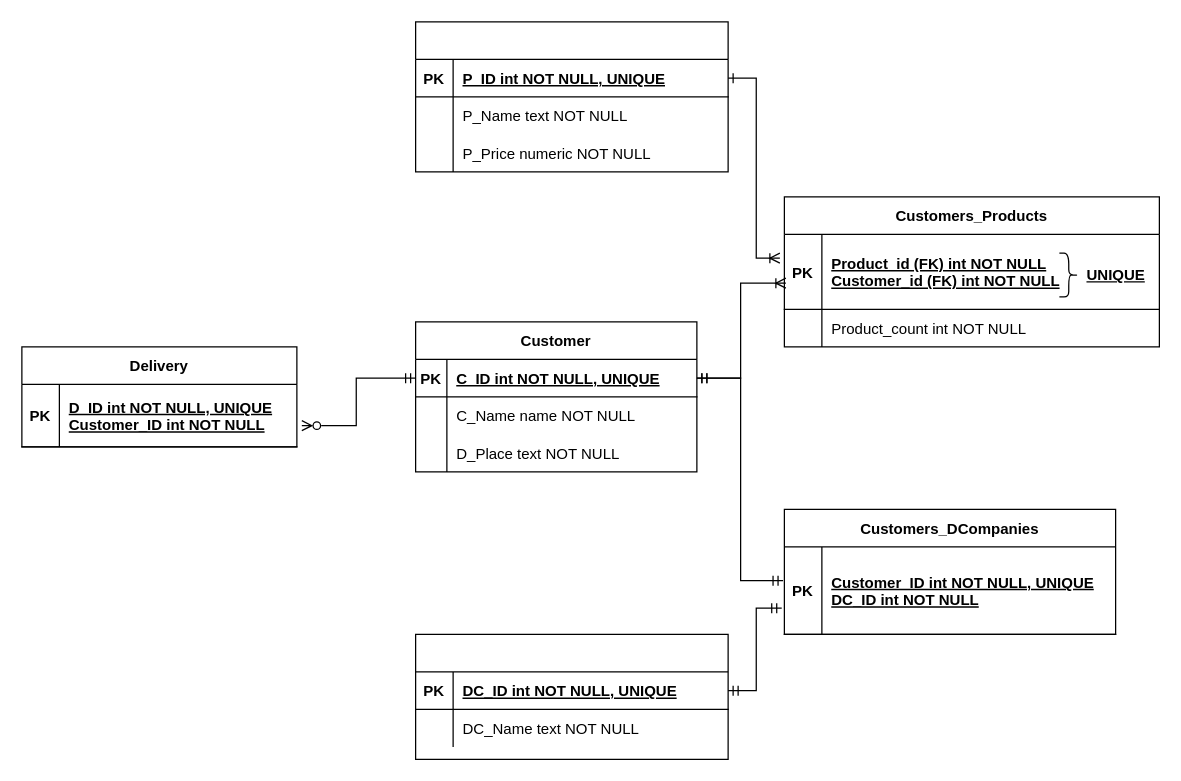
Some shapes in this 1181 by 781 pixel diagram are drawn without their labels. The box of each missing label's shape, as (x1, y1, x2, y2) in pixels:
Delivery Company: (414, 633, 728, 759)
Product: (414, 21, 728, 172)
